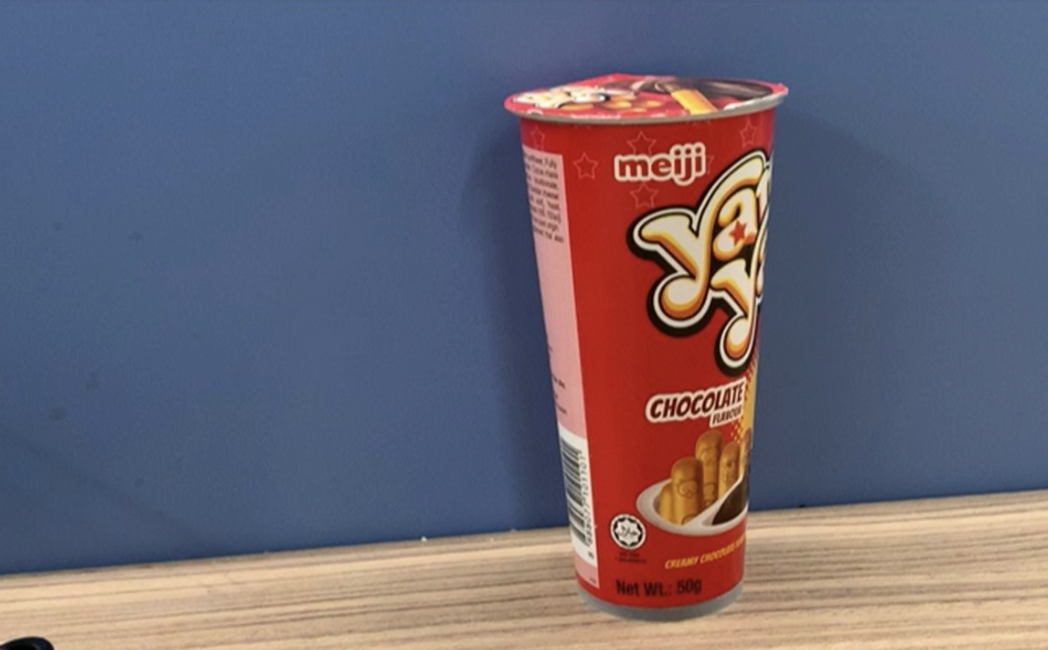crackers_1g-99g: (571, 137, 745, 587)
